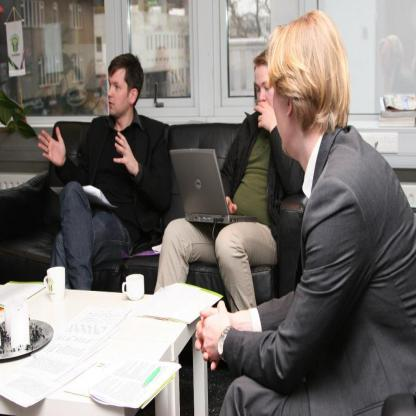board: (170, 145, 257, 226)
